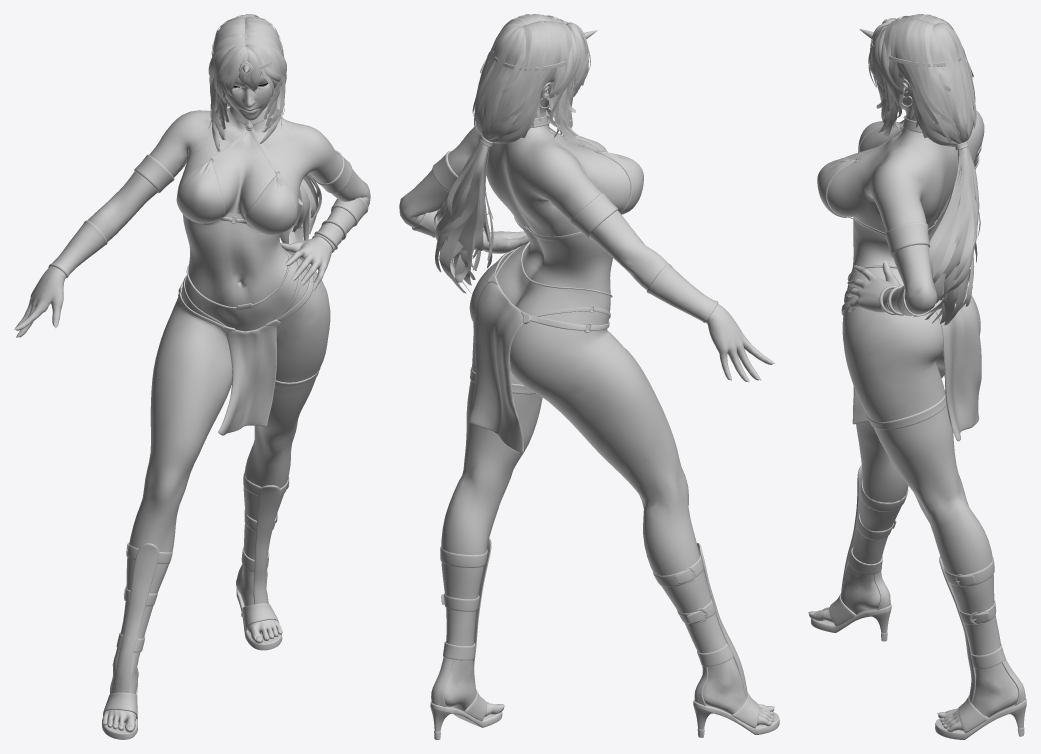
The model's file is PillarWoman_Pose01.obj.
3 renders of one model, left to right at view 1: azimuth 30°, elevation 25°; view 2: azimuth 150°, elevation 25°; view 3: azimuth 270°, elevation 25°, orthographic. The views are drawn at different scales.
Visible parts, largest first — view 1: PillarWoman_Body, PillarWoman_Clothes_-_Shoes, PillarWoman_Hair, PillarWoman_Clothes_-_Loincloth, PillarWoman_Clothes_-_Bra, PillarWoman_Clothes_-_Arms; view 2: PillarWoman_Body, PillarWoman_Hair, PillarWoman_Clothes_-_Shoes, PillarWoman_Clothes_-_Loincloth, PillarWoman_Clothes_-_Arms, PillarWoman_Clothes_-_Bra; view 3: PillarWoman_Body, PillarWoman_Hair, PillarWoman_Clothes_-_Shoes, PillarWoman_Clothes_-_Loincloth, PillarWoman_Clothes_-_Arms, PillarWoman_Clothes_-_Bra, PillarWoman_Clothes_-_Thighstrap.
Boxes of the visible parts, <box> form: PillarWoman_Body: <box>14,74,370,732</box>; PillarWoman_Clothes_-_Shoes: <box>102,471,289,739</box>; PillarWoman_Hair: <box>208,14,321,243</box>; PillarWoman_Clothes_-_Loincloth: <box>178,253,313,435</box>; PillarWoman_Clothes_-_Bra: <box>176,128,296,235</box>; PillarWoman_Clothes_-_Arms: <box>48,150,368,278</box>; PillarWoman_Body: <box>399,82,774,726</box>; PillarWoman_Hair: <box>433,14,590,293</box>; PillarWoman_Clothes_-_Shoes: <box>430,539,779,739</box>; PillarWoman_Clothes_-_Loincloth: <box>468,249,609,453</box>; PillarWoman_Clothes_-_Arms: <box>412,150,718,322</box>; PillarWoman_Clothes_-_Bra: <box>514,127,643,240</box>; PillarWoman_Body: <box>808,78,1018,732</box>; PillarWoman_Hair: <box>868,14,980,325</box>; PillarWoman_Clothes_-_Shoes: <box>811,465,1026,739</box>; PillarWoman_Clothes_-_Loincloth: <box>841,287,981,441</box>; PillarWoman_Clothes_-_Arms: <box>879,142,982,316</box>; PillarWoman_Clothes_-_Bra: <box>817,120,936,235</box>; PillarWoman_Clothes_-_Thighstrap: <box>866,390,946,429</box>.
Size of the model in its own units: 99.31 by 174 by 49.55.
